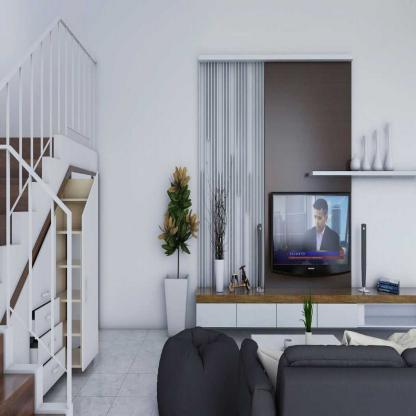kursi: (164, 167, 191, 332), (300, 293, 318, 345)
tv: (267, 191, 351, 276)
